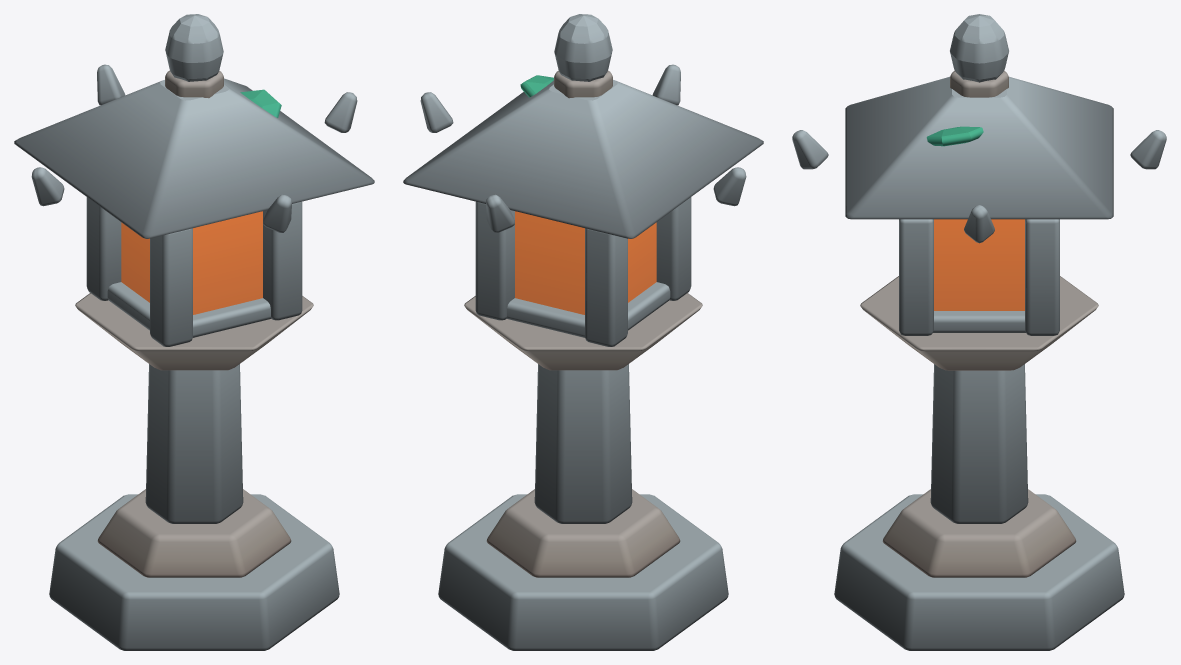
Rendered from stone_lantern.glb.
3 views of the same model, side by side, from view 1: azimuth 30°, elevation 25°; view 2: azimuth 150°, elevation 25°; view 3: azimuth 270°, elevation 25° (orthographic).
Visible parts, largest first — view 1: stone_lantern; view 2: stone_lantern; view 3: stone_lantern.
Boxes of the visible parts, x1,y1,x2,y2 form: stone_lantern: [14, 14, 374, 650]; stone_lantern: [403, 14, 763, 650]; stone_lantern: [792, 14, 1166, 650].
Bounding box in the file's own units: 0.9645 × 1.66 × 0.9645.
2 materials, 2 textured.
